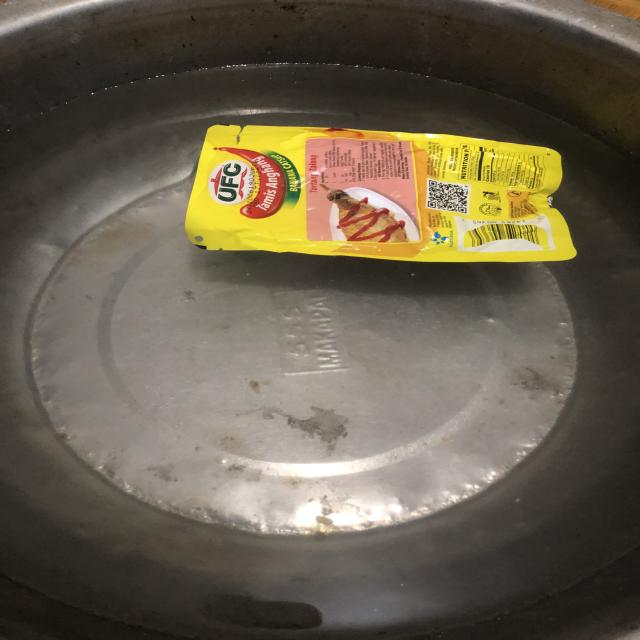Plastic Pouch: (163, 99, 597, 284)
